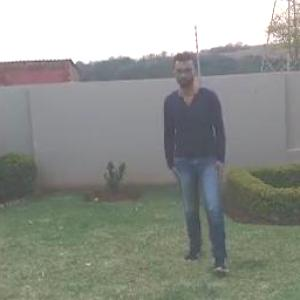follow: (168, 37, 236, 285)
